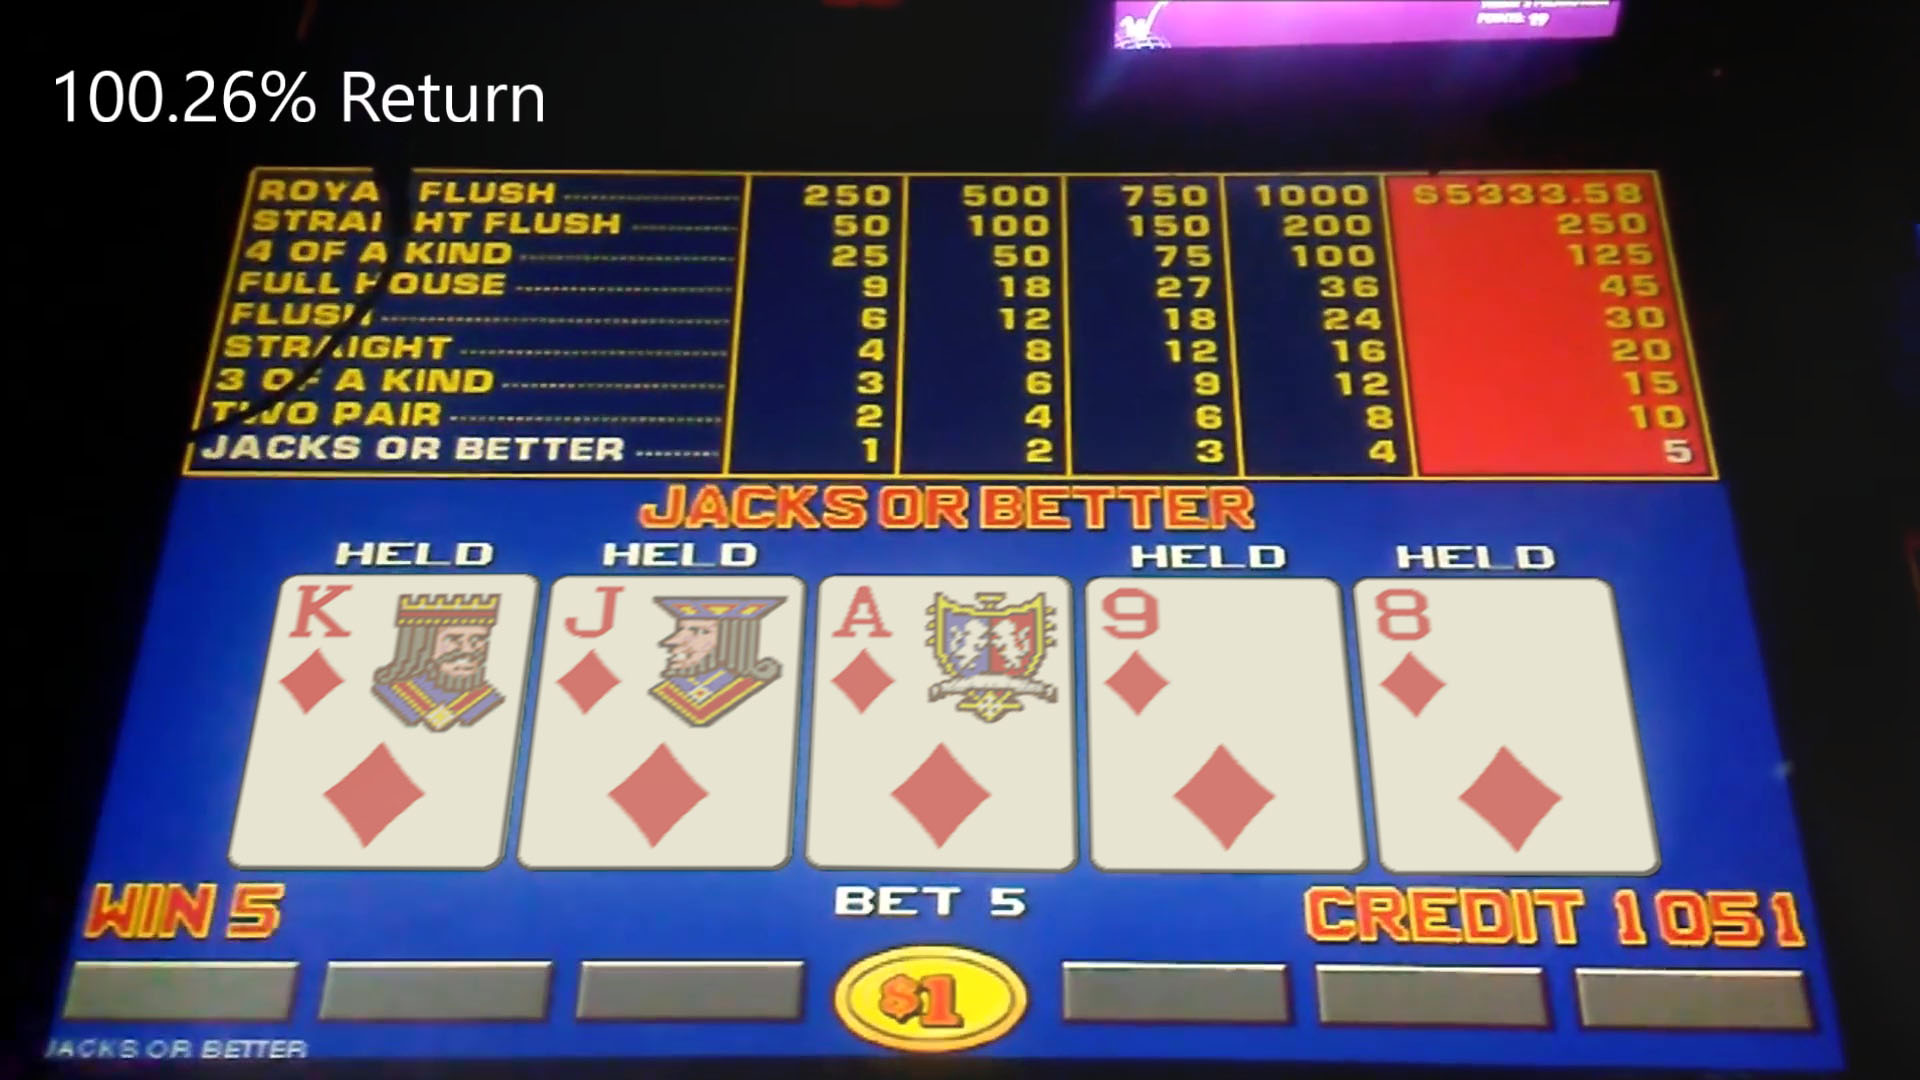D8: (1370, 582, 1611, 724)
D9: (1091, 580, 1338, 725)
DA: (822, 576, 1068, 731)
DJ: (553, 578, 793, 735)
DK: (276, 576, 518, 727)
